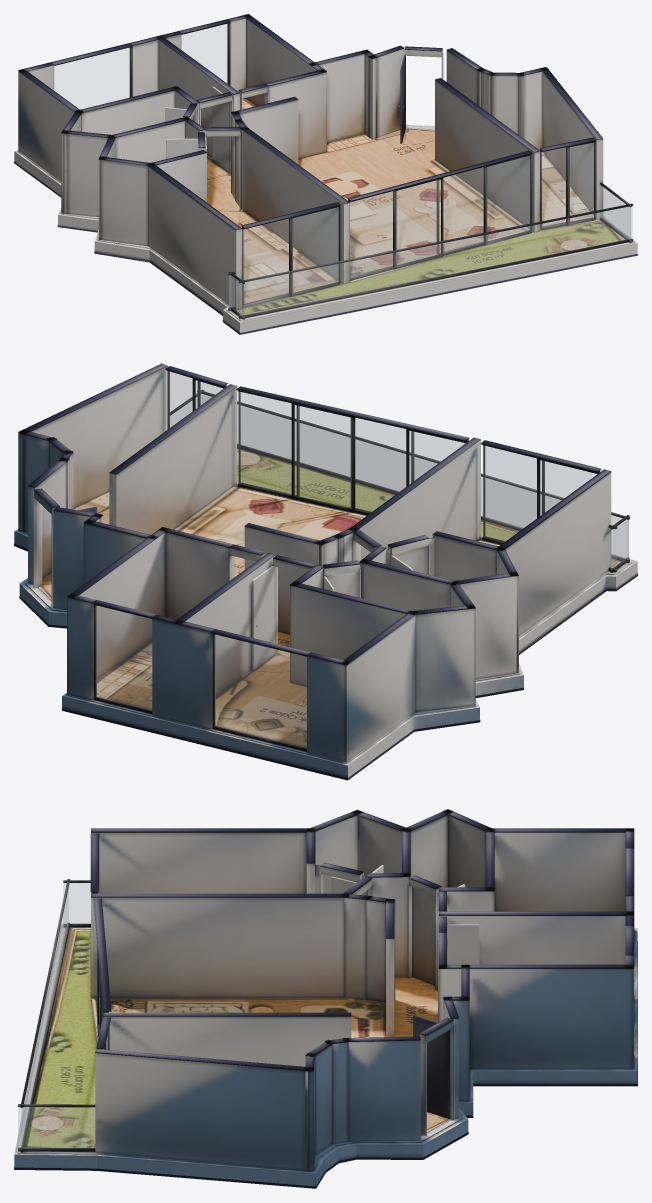
3 views of the same model, one above another, from view 1: azimuth 30°, elevation 25°; view 2: azimuth 150°, elevation 25°; view 3: azimuth 270°, elevation 25° (orthographic). The views are drawn at different scales.
Visible parts, largest first — view 1: plan, railg1_m, glass3_m, glass2_m, glass4_m, glass0_m, glass1_m, railg0_m, railg2_m; view 2: plan, glass3_m, railg1_m, glass0_m, glass2_m, glass1_m, glass4_m, railg2_m; view 3: plan, railg0_m, railg1_m, railg2_m.
Boxes of the visible parts, x1,y1,x2,y2 form: plan: [14, 14, 637, 334]; railg1_m: [239, 206, 632, 315]; glass3_m: [350, 156, 529, 277]; glass2_m: [243, 207, 338, 304]; glass4_m: [541, 143, 593, 227]; glass0_m: [54, 48, 129, 109]; glass1_m: [182, 24, 227, 83]; railg0_m: [601, 185, 630, 239]; railg2_m: [230, 275, 244, 316]; plan: [14, 363, 637, 780]; glass3_m: [238, 391, 464, 512]; railg1_m: [202, 394, 628, 559]; glass0_m: [215, 634, 306, 748]; glass2_m: [483, 445, 596, 542]; glass1_m: [96, 605, 151, 710]; glass4_m: [167, 371, 222, 429]; railg2_m: [611, 520, 628, 569]; plan: [14, 809, 637, 1188]; railg0_m: [18, 1107, 94, 1148]; railg1_m: [21, 889, 68, 1148]; railg2_m: [63, 883, 90, 923].
Bounding box in the file's own units: 12.83 × 2.62 × 12.74.
Materials: 2 (1 with a texture image).
